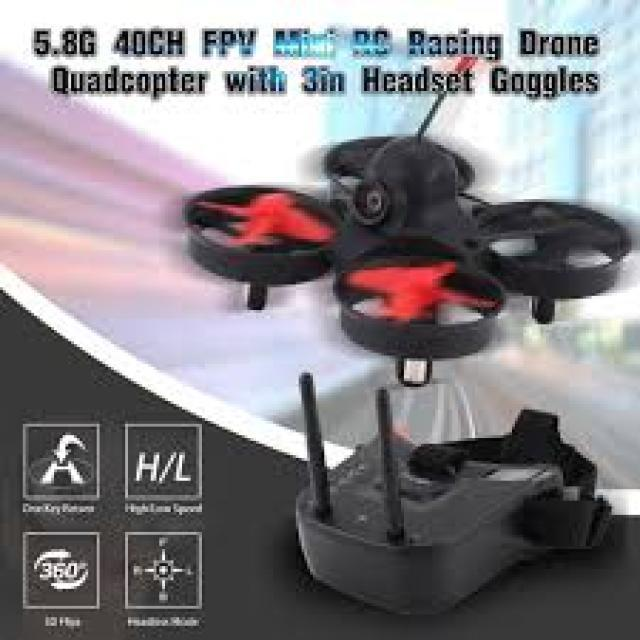drone: (144, 118, 640, 380)
